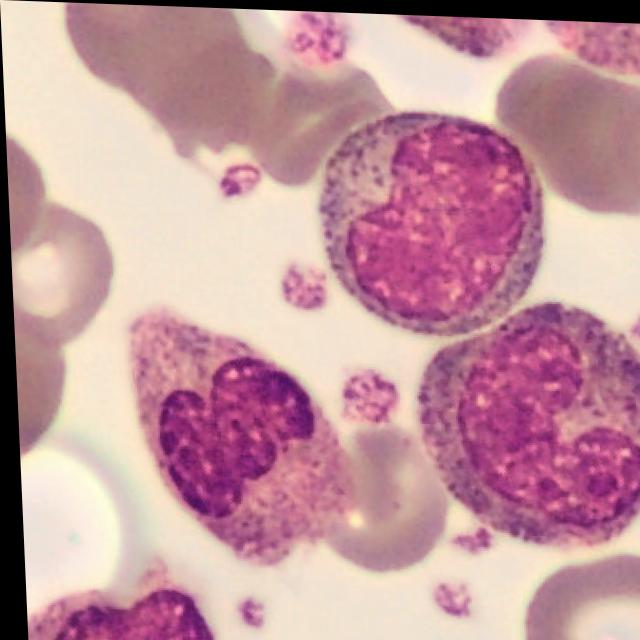Metamielocito: (315, 109, 545, 335)
